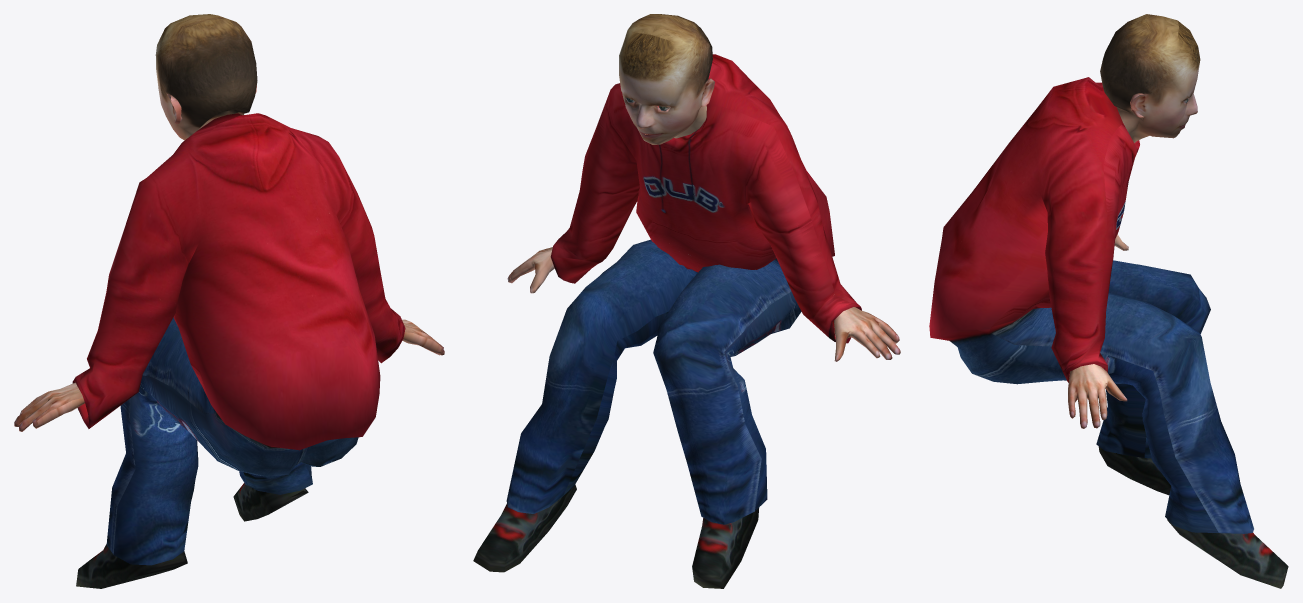
3 renders of one model, left to right at view 1: azimuth 30°, elevation 25°; view 2: azimuth 150°, elevation 25°; view 3: azimuth 270°, elevation 25°, orthographic. The views are drawn at different scales.
Parts seen in each view (by area): view 1: CBoy0005_Se; view 2: CBoy0005_Se; view 3: CBoy0005_Se.
Part boxes in pixels (x1,y1,x2,y2): CBoy0005_Se: [14, 14, 444, 588]; CBoy0005_Se: [473, 14, 900, 588]; CBoy0005_Se: [929, 14, 1288, 588].
Size of the model in its own units: 2.15 by 2.8 by 1.77.
